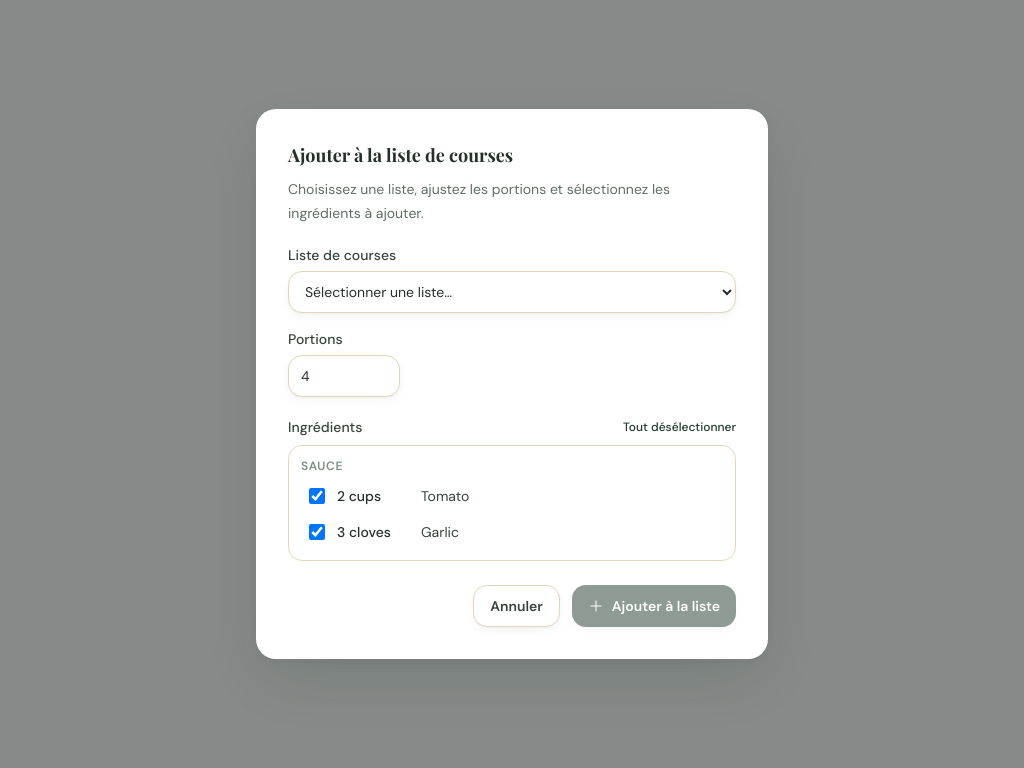
it: AddToShoppingListModal › disables submit until a list is selected
Expected: the button "Ajouter à la liste" is disabled, [572,585,736,627]
Select "Weekly Groceries" in the dropdown labelled "Liste de courses" at (512, 292), box [288,271,736,313]
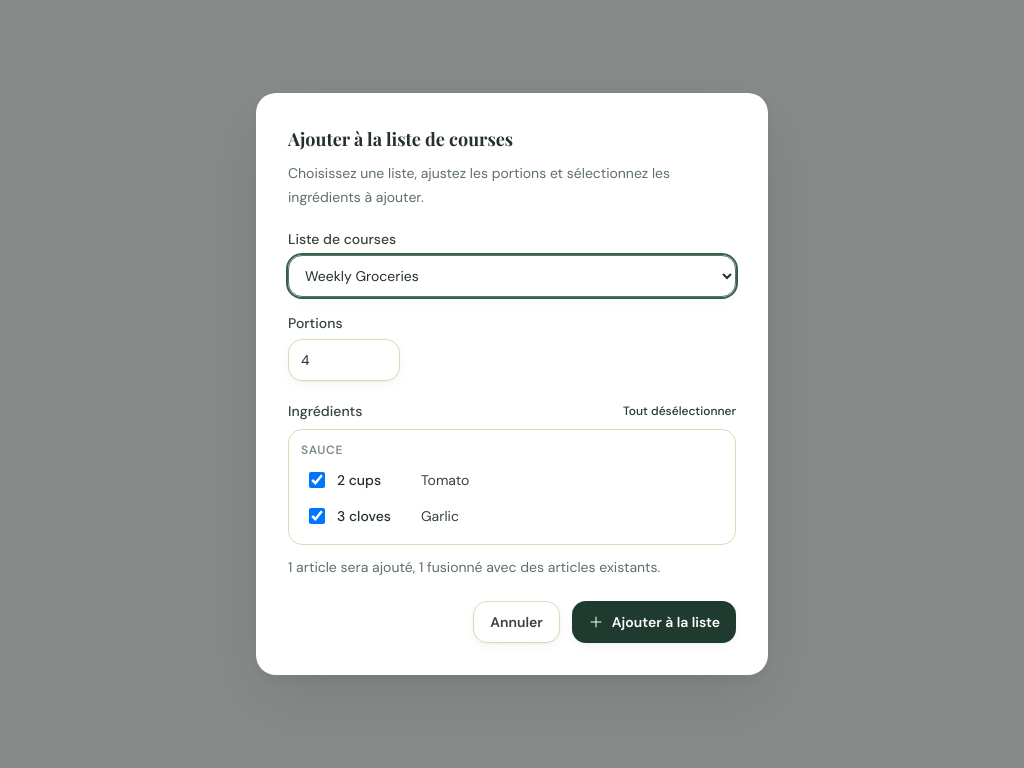
Result: the button "Ajouter à la liste" is enabled at [572,601,736,643]
